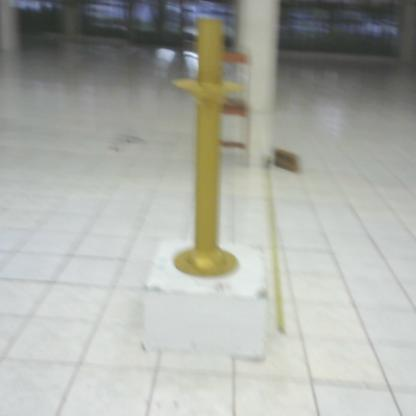pole: (169, 17, 247, 278)
